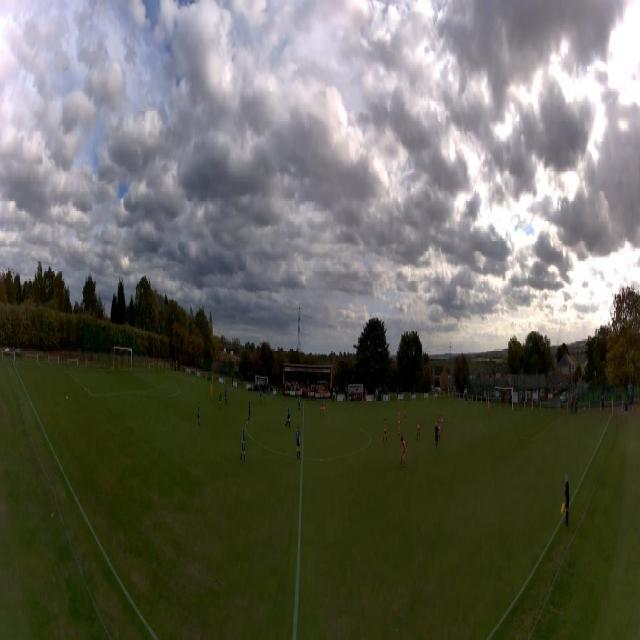ball: (66, 396, 68, 402)
player: (295, 426, 301, 461), (240, 429, 246, 463), (400, 435, 405, 467), (435, 420, 439, 452), (197, 402, 201, 430), (248, 401, 252, 427), (383, 417, 387, 443), (397, 411, 401, 437), (285, 402, 289, 428), (210, 382, 214, 402), (322, 397, 326, 417), (417, 414, 420, 439), (438, 417, 441, 439), (225, 385, 228, 406), (219, 390, 222, 410), (298, 395, 301, 413), (404, 403, 407, 421), (487, 397, 490, 415), (365, 391, 368, 407), (288, 405, 290, 427), (441, 413, 443, 434), (260, 387, 262, 404)
